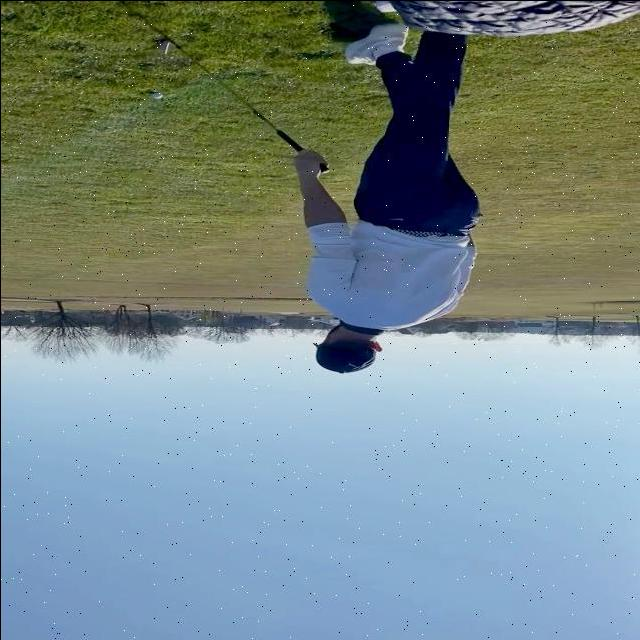golf ball: (150, 92, 162, 97)
golf club-handle: (160, 38, 329, 173)
golf club-head: (160, 38, 169, 53)
